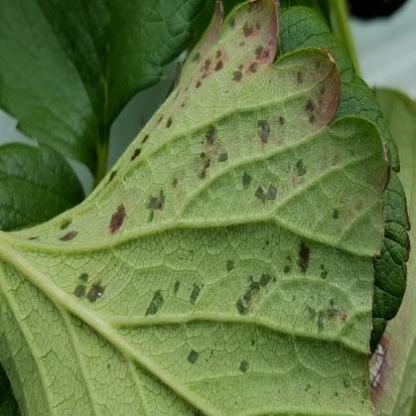Strawberry_Angular_LeafSpot: (23, 0, 393, 409), (369, 244, 415, 415)
